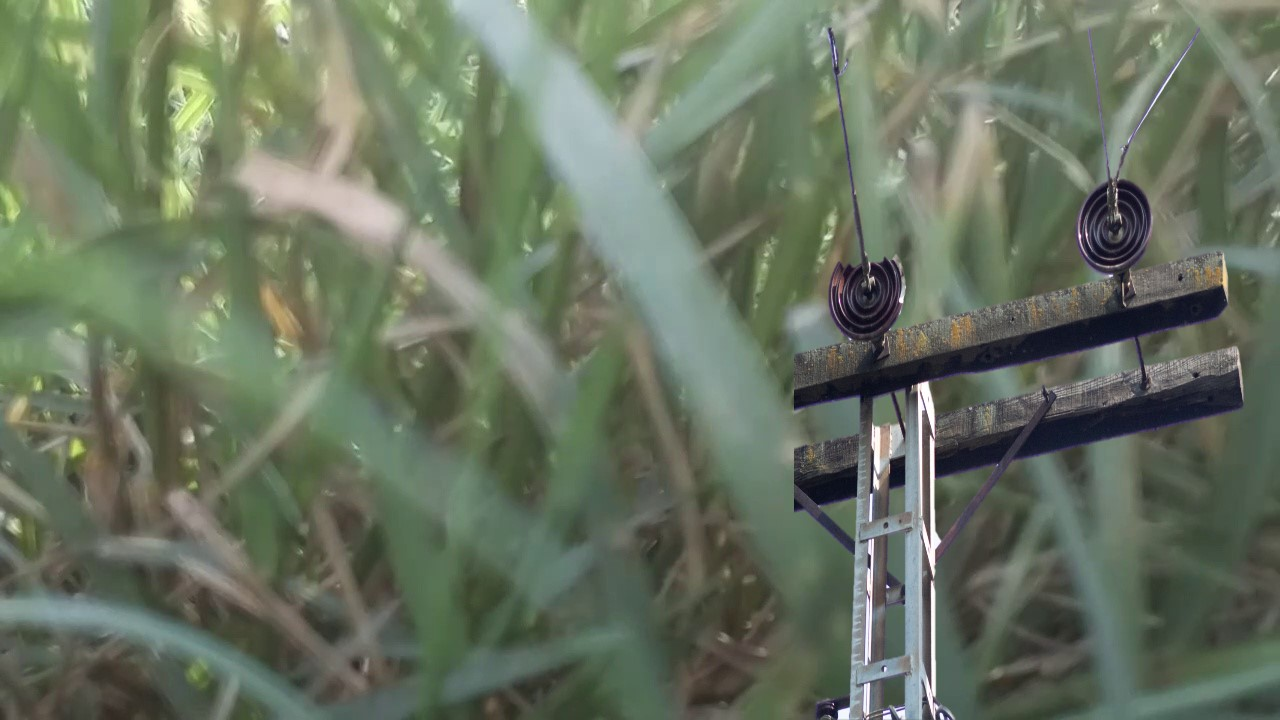defect_disc: (825, 247, 919, 349)
insulator_disc: (1074, 177, 1159, 273)
